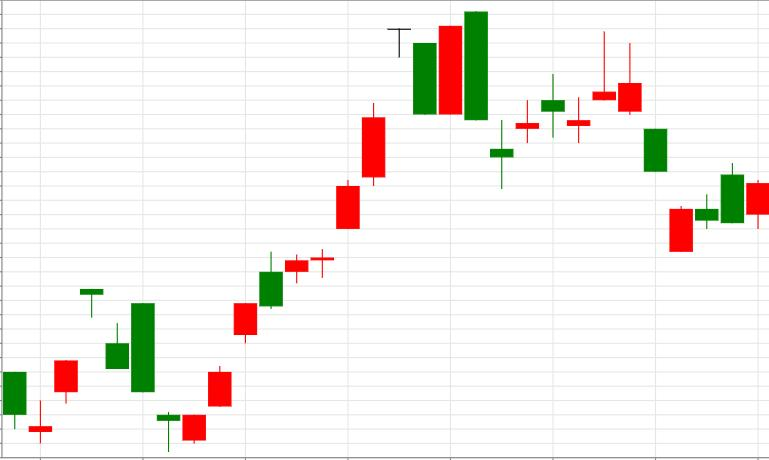bearish_engulfing_fall: (284, 11, 488, 284)
shooting_star_fall: (491, 32, 642, 188)
